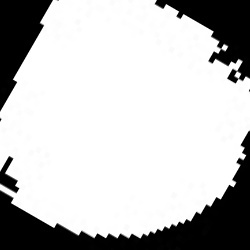spot: (2, 1, 248, 238)
